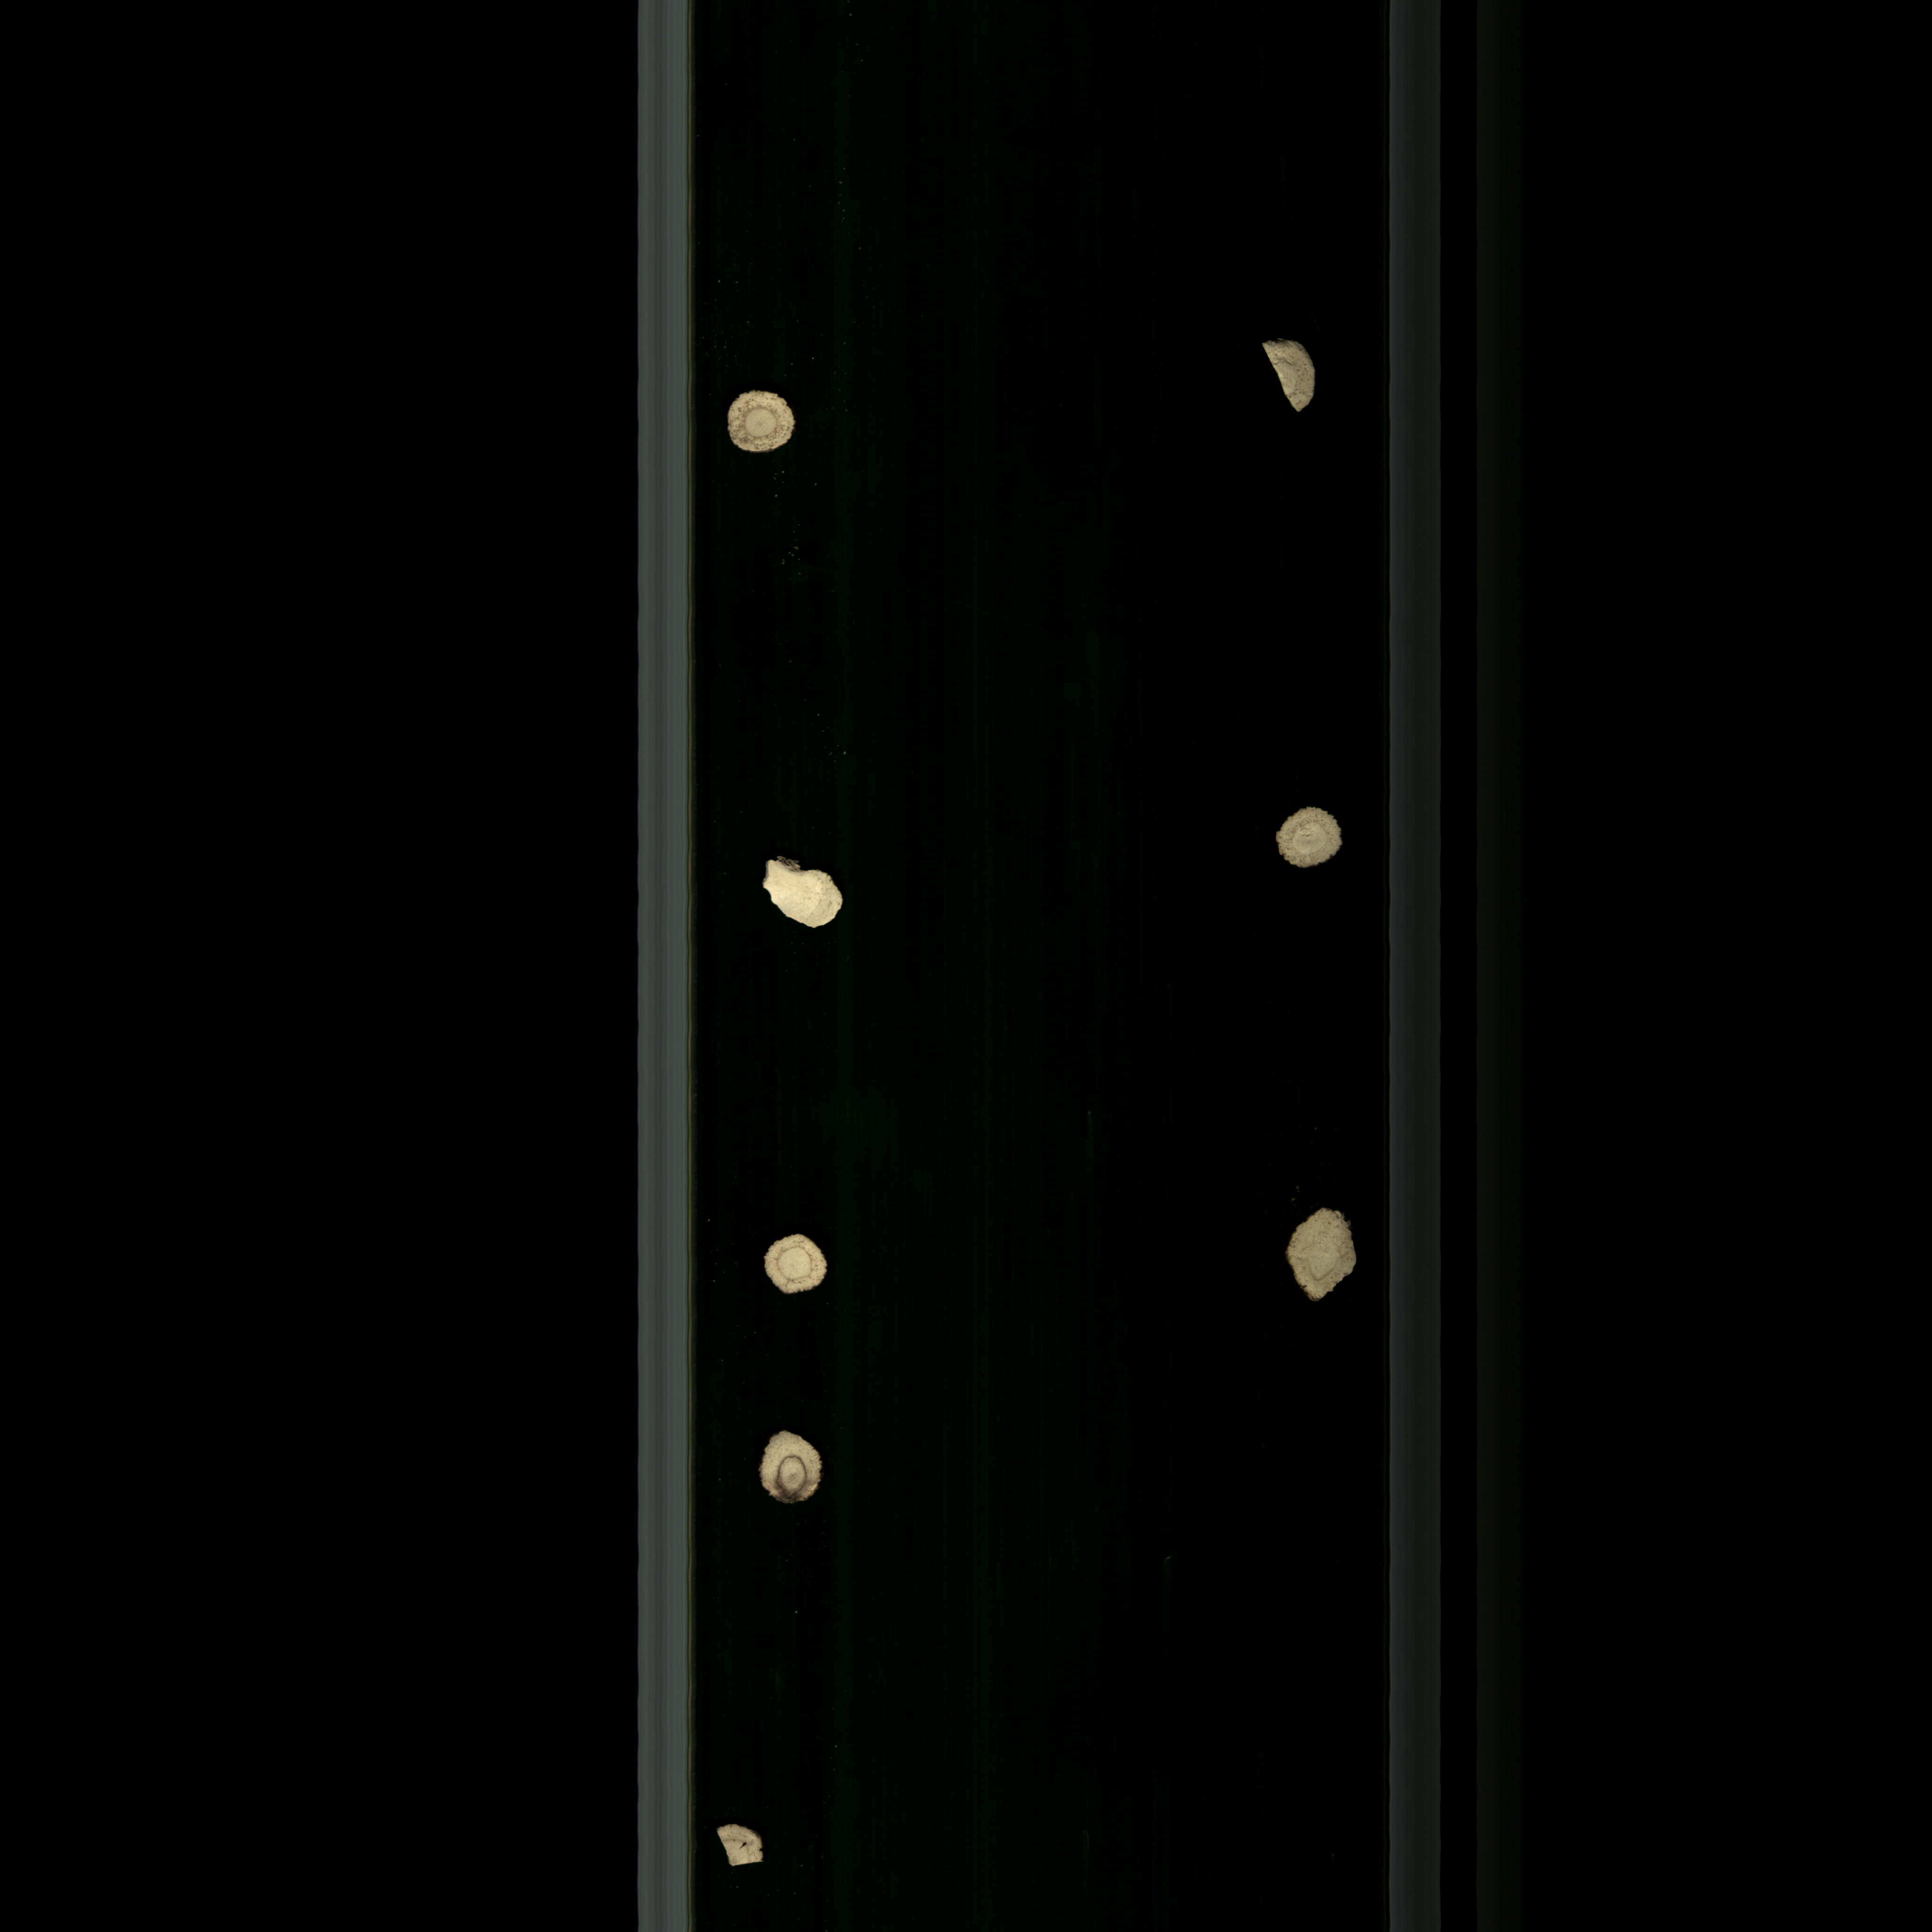debris: (1240, 331, 1327, 428)
distortion: (747, 842, 855, 941), (1269, 1201, 1364, 1309)
dreg: (706, 1815, 771, 1882)
moldy: (748, 1422, 844, 1523), (720, 382, 807, 464)
